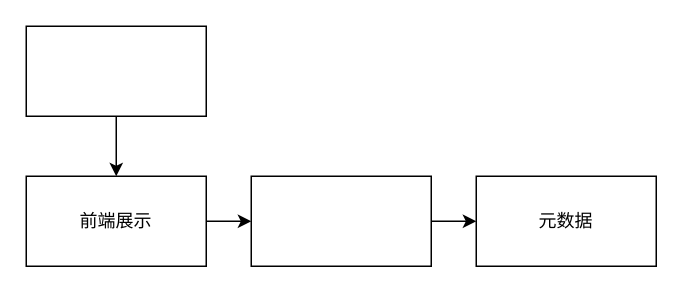
Image size: 683x293. Some labels were removed from this diagram. Here are the shapes that lost their labels. From the top down, the box of each, then its label:
(25, 25, 206, 116): AB中台/模块
(250, 175, 431, 266): 后端存储
